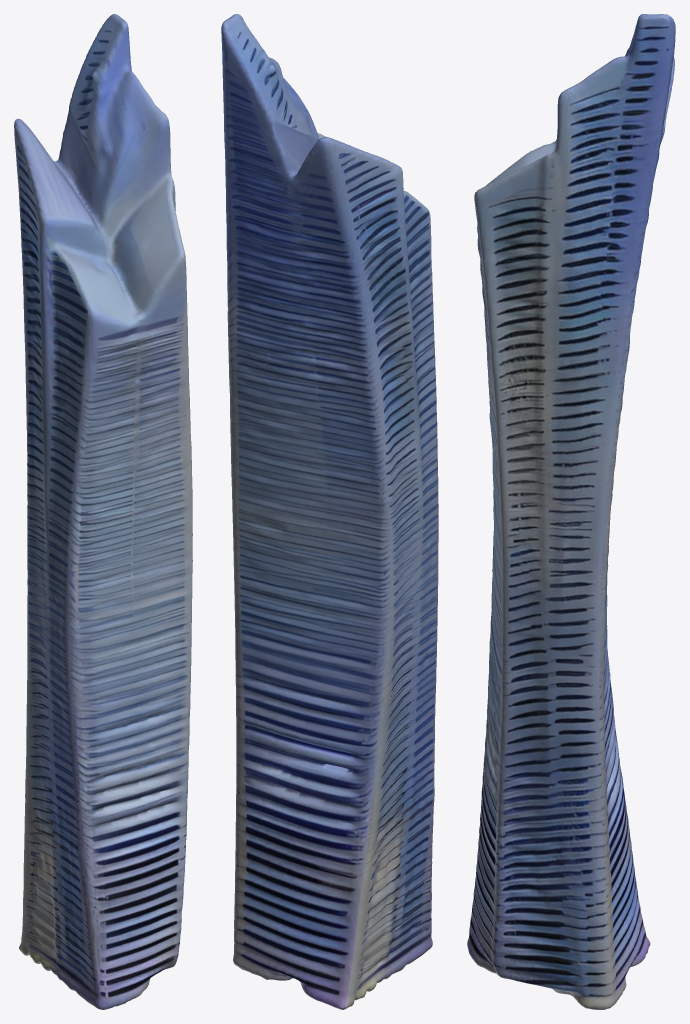
The model's file is ocean_heights.glb.
3 views of the same model, side by side, from view 1: azimuth 30°, elevation 25°; view 2: azimuth 150°, elevation 25°; view 3: azimuth 270°, elevation 25° (orthographic). The views are drawn at different scales.
Visible parts, largest first — view 1: Object_4; view 2: Object_4; view 3: Object_4.
Boxes of the visible parts, x1,y1,x2,y2 form: Object_4: (14,14,192,1009); Object_4: (221,14,438,1009); Object_4: (467,14,675,1009).
Size of the model in its own units: 53.59 by 310 by 59.38.
Materials: 1 (1 with a texture image).
